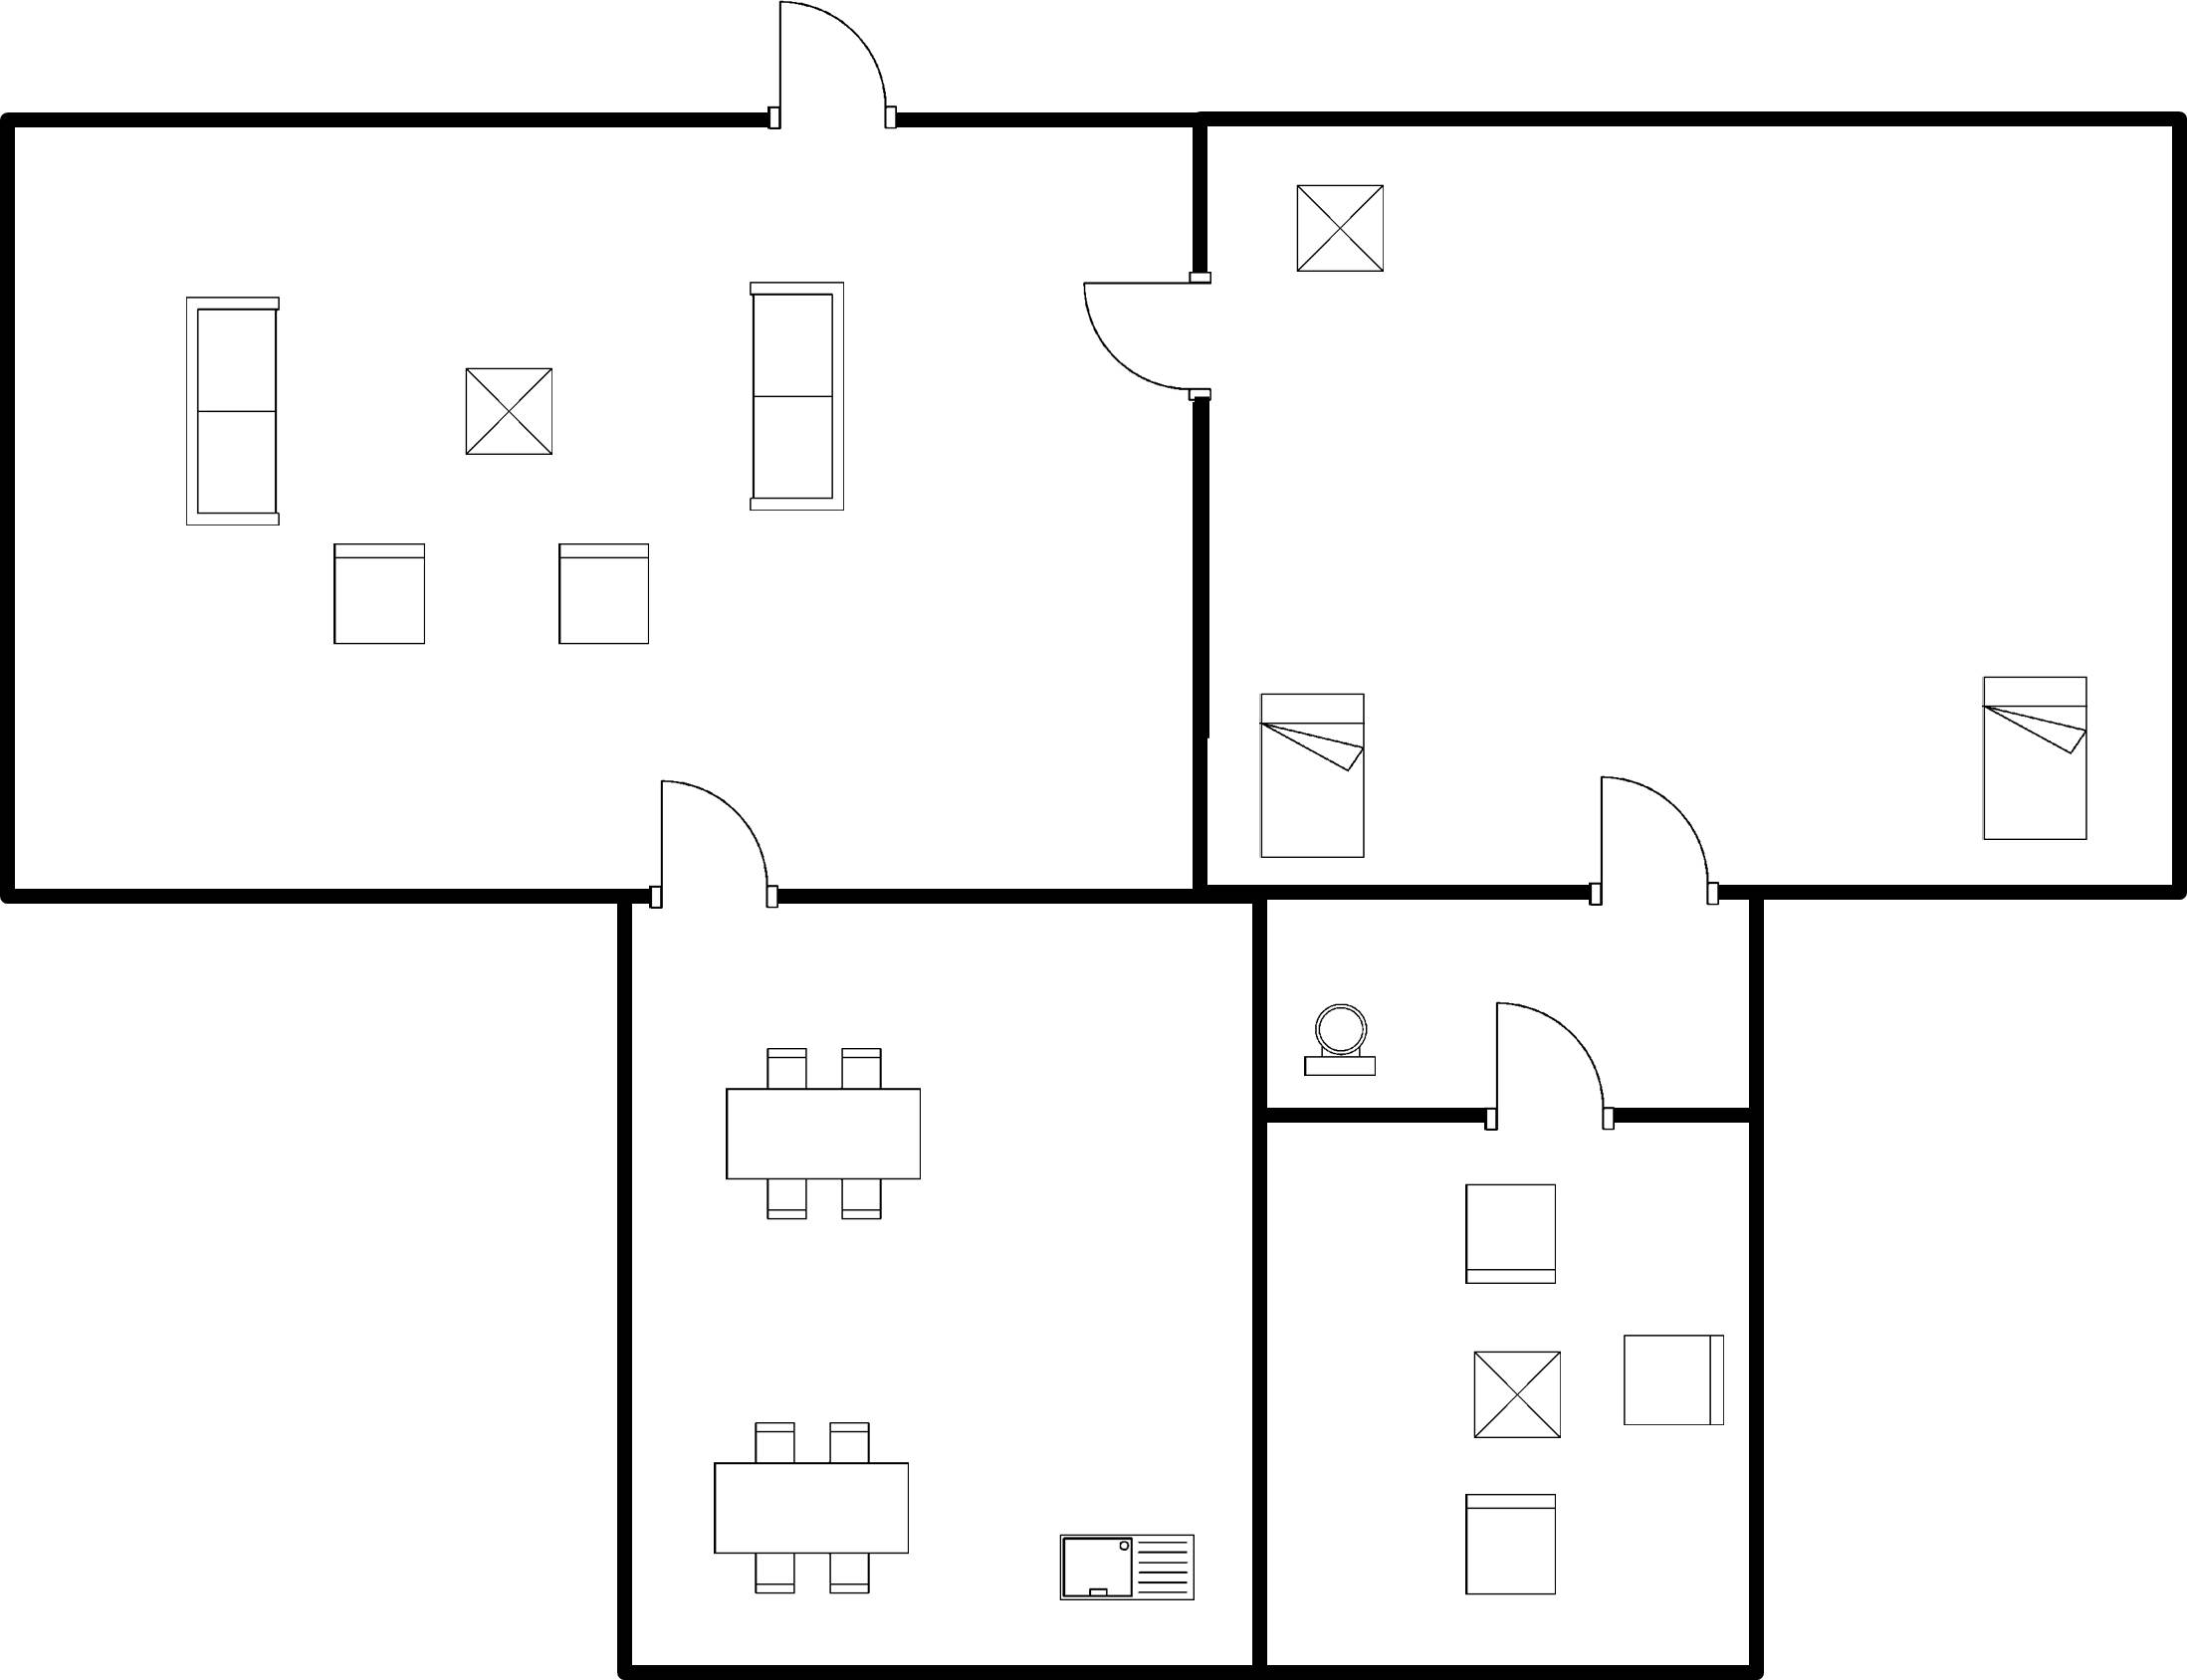bed: (1969, 665, 2104, 853), (1247, 679, 1378, 869)
coffee_table: (448, 358, 565, 473), (1463, 1340, 1576, 1453), (1288, 177, 1400, 289)
dining_table: (716, 1036, 939, 1231), (701, 1407, 925, 1601)
large_sink: (1288, 995, 1396, 1095)
large_sofa: (740, 272, 857, 524), (178, 287, 291, 538)
sink: (1048, 1521, 1206, 1616)
small_sofa: (1448, 1167, 1567, 1299), (323, 529, 443, 657), (1451, 1483, 1571, 1606), (1608, 1323, 1735, 1440), (547, 536, 665, 656)
